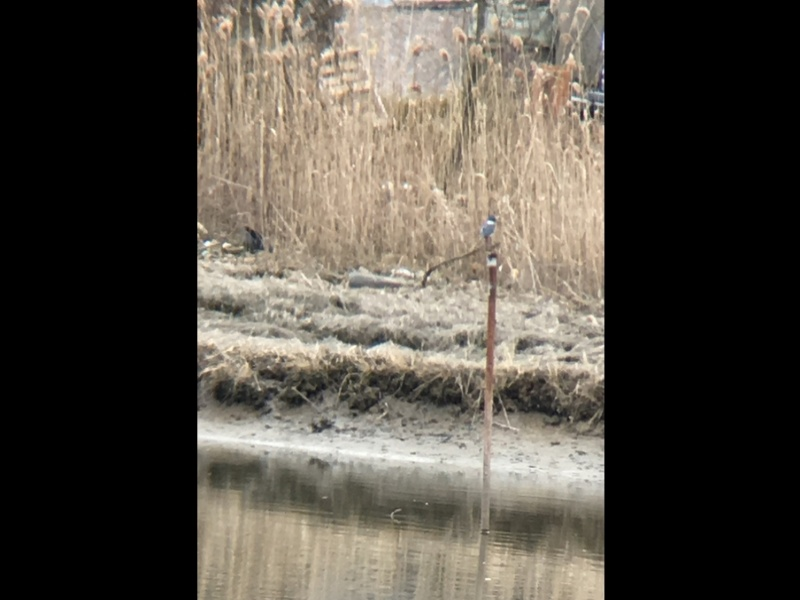kingfisher: (481, 215, 500, 244)
